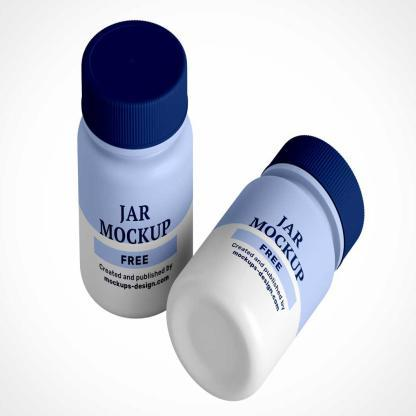jar: (134, 118, 398, 415), (77, 20, 193, 317)
